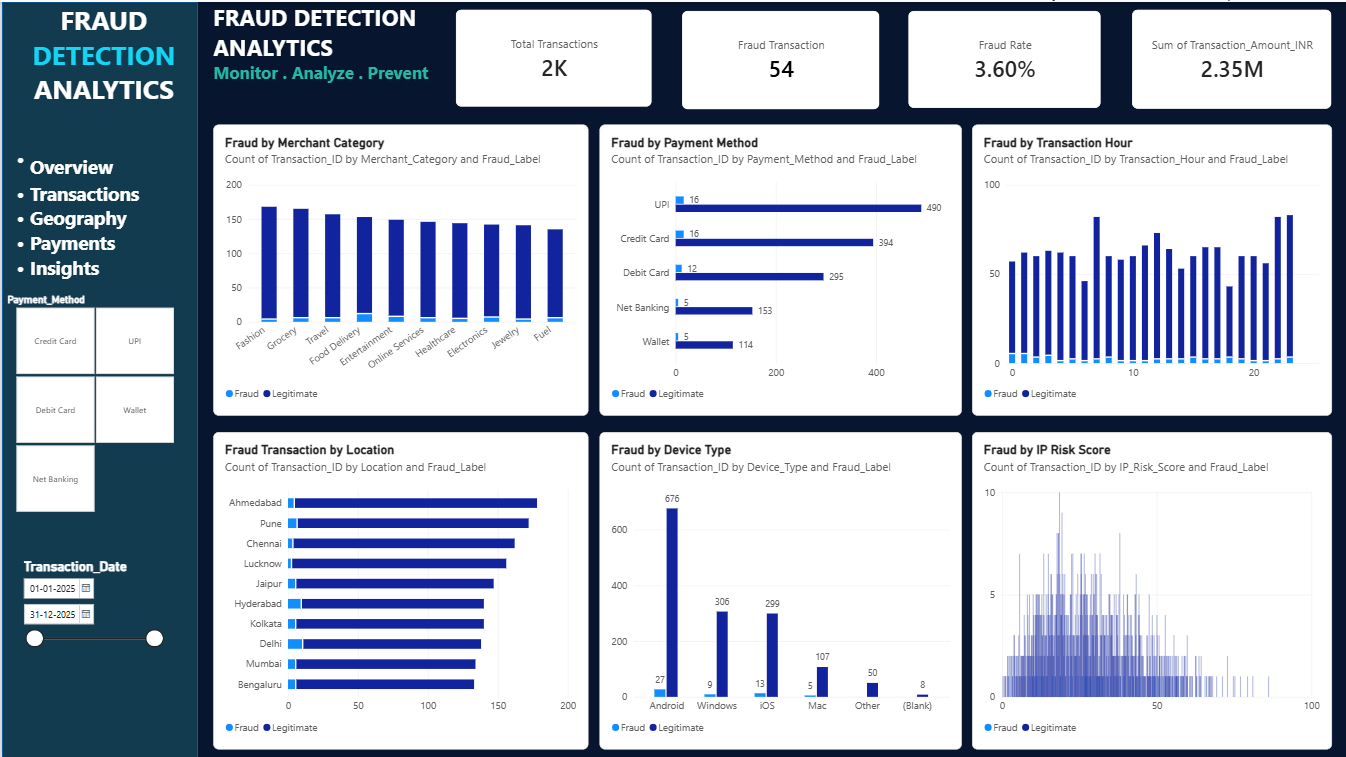

What the dashboard file says about the page in this screenshot:
{"tool":"powerbi","page":{"name":"Fraud Analytics","canvas":[1920,1080],"ordinal":0},"visuals":[{"type":"shape","box":[0,0,279.7,1081],"z":0},{"type":"textbox","box":[0,0,291.1,150],"z":1000},{"type":"textbox","box":[0,204.5,290.1,202.4],"z":2000},{"type":"textbox","box":[301.8,0,450,175],"z":3000},{"type":"cardVisual","fields":{"Data":["Raw_Data.Total Transactions"]},"box":[648.2,10.7,280.4,139.3],"z":4000},{"type":"cardVisual","fields":{"Data":["Raw_Data.Fraud Transaction"]},"box":[971.4,12.5,282.1,141.1],"z":5000},{"type":"cardVisual","fields":{"Data":["Raw_Data.Fraud Rate"]},"box":[1294.6,12.5,275,139.3],"z":6000},{"type":"cardVisual","fields":{"Data":["Sum(Raw_Data.Transaction_Amount_INR)"]},"box":[1614.3,10.7,285.7,142.9],"z":7000},{"type":"columnChart","title":"Fraud by Merchant Category","fields":{"Category":["Raw_Data.Merchant_Category"],"Series":["Raw_Data.Fraud_Label"],"Y":["CountNonNull(Raw_Data.Transaction_ID)"]},"box":[301.8,175,535.7,416.1],"z":8000},{"type":"clusteredBarChart","title":"Fraud by Payment Method","fields":{"Category":["Raw_Data.Payment_Method"],"Series":["Raw_Data.Fraud_Label"],"Y":["CountNonNull(Raw_Data.Transaction_ID)"]},"box":[853.6,175,517.9,416.1],"z":9000},{"type":"barChart","title":"Fraud Transaction by Location","fields":{"Category":["Raw_Data.Location"],"Series":["Raw_Data.Fraud_Label"],"Y":["CountNonNull(Raw_Data.Transaction_ID)"]},"box":[301.8,614.3,535.7,453.6],"z":10000},{"type":"clusteredColumnChart","title":"Fraud by Device Type","fields":{"Category":["Raw_Data.Device_Type"],"Series":["Raw_Data.Fraud_Label"],"Y":["CountNonNull(Raw_Data.Transaction_ID)"]},"box":[853.6,614.3,517.9,453.6],"z":11000},{"type":"slicer","fields":{"Values":["Raw_Data.Transaction_Date"]},"box":[23,795.1,210.8,167],"z":12000},{"type":"slicer","fields":{"Values":["Raw_Data.Payment_Method"]},"box":[0,415.3,264.3,314.3],"z":13000},{"type":"columnChart","title":"Fraud by Transaction Hour","fields":{"Category":["Raw_Data.Transaction_Hour"],"Series":["Raw_Data.Fraud_Label"],"Y":["CountNonNull(Raw_Data.Transaction_ID)"]},"box":[1385.7,175,514.3,416.1],"z":14000},{"type":"clusteredColumnChart","title":"Fraud by IP Risk Score","fields":{"Category":["Raw_Data.IP_Risk_Score"],"Series":["Raw_Data.Fraud_Label"],"Y":["CountNonNull(Raw_Data.Transaction_ID)"]},"box":[1385.7,614.3,514.3,453.6],"z":15000}]}

Visuals, with their boxes in screenshot pixels (x1, y1, x2, y2), scaled from the page's 1920x1080 canvas onto the 1346x757 screenshot:
shape: bbox(0, 0, 196, 756)
textbox: bbox(0, 0, 204, 105)
textbox: bbox(0, 143, 203, 285)
textbox: bbox(212, 0, 527, 123)
cardVisual - Raw_Data.Total Transactions: bbox(454, 7, 651, 105)
cardVisual - Raw_Data.Fraud Transaction: bbox(681, 9, 879, 108)
cardVisual - Raw_Data.Fraud Rate: bbox(908, 9, 1100, 106)
cardVisual - Sum(Raw_Data.Transaction_Amount_INR): bbox(1132, 7, 1332, 108)
"Fraud by Merchant Category" columnChart: bbox(212, 123, 587, 414)
"Fraud by Payment Method" clusteredBarChart: bbox(598, 123, 961, 414)
"Fraud Transaction by Location" barChart: bbox(212, 431, 587, 749)
"Fraud by Device Type" clusteredColumnChart: bbox(598, 431, 961, 749)
slicer - Raw_Data.Transaction_Date: bbox(16, 557, 164, 674)
slicer - Raw_Data.Payment_Method: bbox(0, 291, 185, 511)
"Fraud by Transaction Hour" columnChart: bbox(971, 123, 1332, 414)
"Fraud by IP Risk Score" clusteredColumnChart: bbox(971, 431, 1332, 749)
